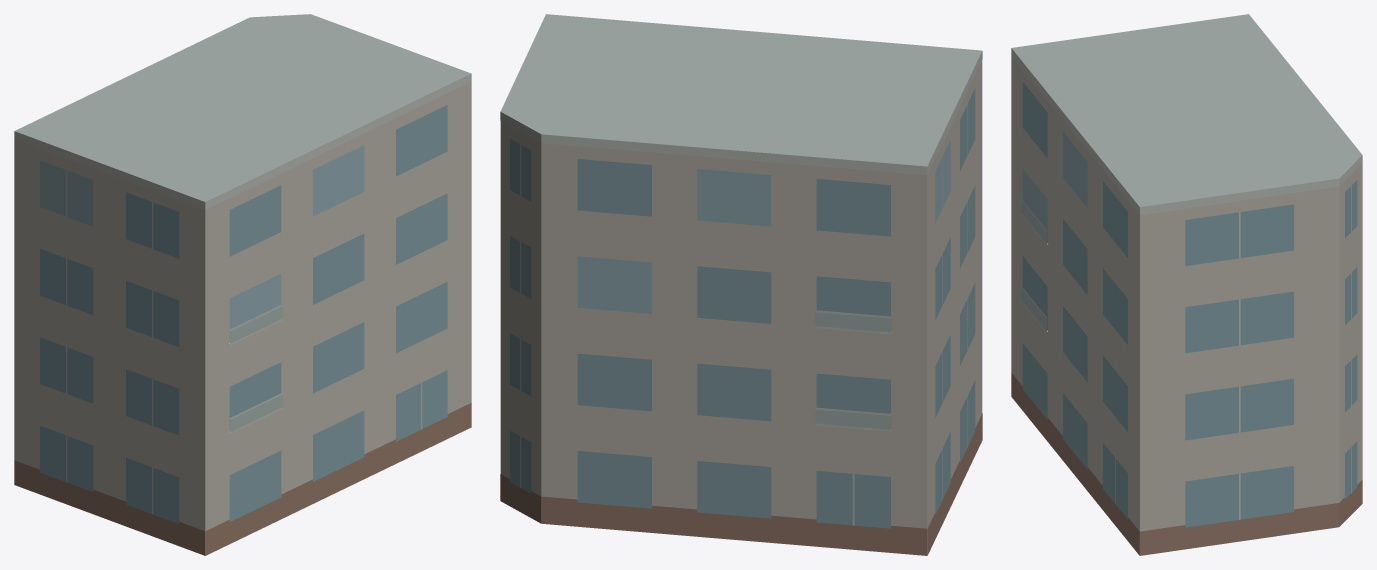
The model's file is survey-upis-32993120.glb.
3 views of the same model, side by side, from view 1: azimuth 30°, elevation 25°; view 2: azimuth 150°, elevation 25°; view 3: azimuth 270°, elevation 25° (orthographic). The views are drawn at different scales.
Visible parts, largest first — view 1: survey-upis-32993120.tmp; view 2: survey-upis-32993120.tmp; view 3: survey-upis-32993120.tmp.
Part boxes in pixels (<box>): survey-upis-32993120.tmp: <box>14,14,471,555</box>; survey-upis-32993120.tmp: <box>500,14,982,555</box>; survey-upis-32993120.tmp: <box>1011,14,1362,555</box>.
Bounding box in the file's own units: 12.73 × 10.7 × 9.78.
